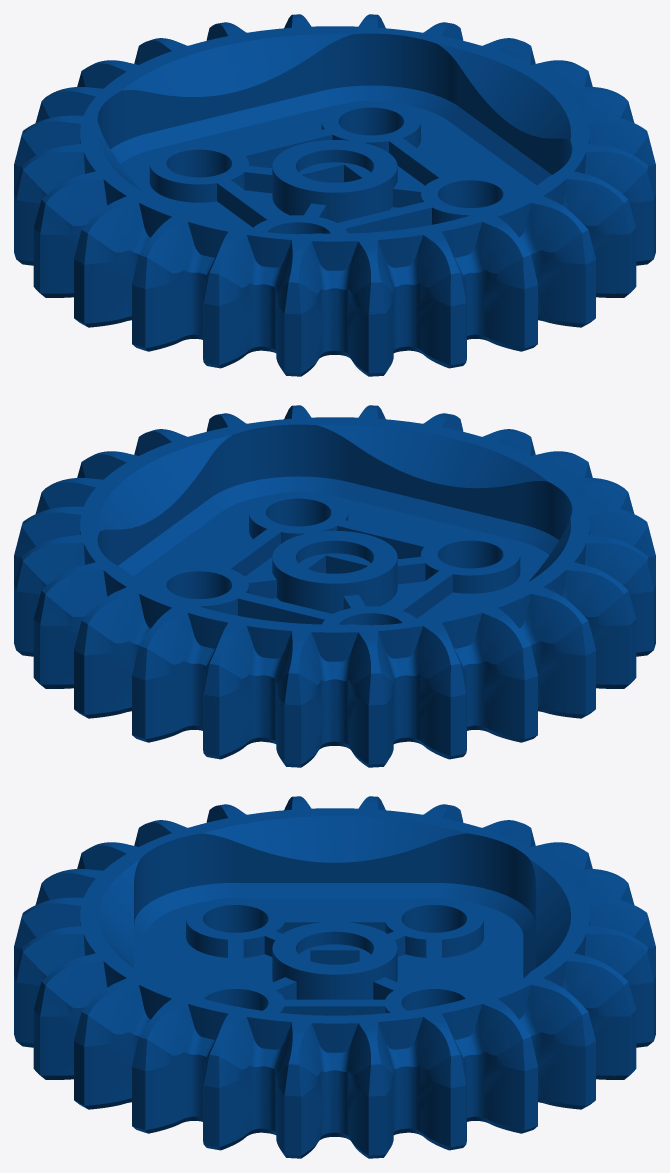
3 renders of one model, top to bottom at view 1: azimuth 30°, elevation 25°; view 2: azimuth 150°, elevation 25°; view 3: azimuth 270°, elevation 25°, orthographic.
Visible parts, largest first — view 1: 228-2500-2182; view 2: 228-2500-2182; view 3: 228-2500-2182.
Part boxes in pixels (x1,y1,x2,y2): 228-2500-2182: (14,14,655,376); 228-2500-2182: (14,405,655,767); 228-2500-2182: (14,796,655,1158).
Bounding box in the file's own units: 0.041 × 0.00864 × 0.041.
